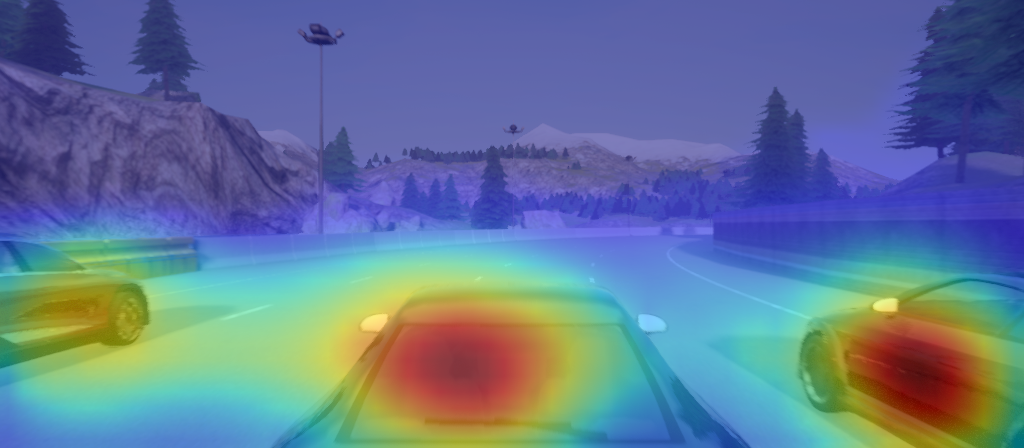Barrier: (719, 205, 1023, 265), (122, 241, 296, 264)
Car: (266, 279, 758, 448), (793, 269, 1024, 448), (1, 230, 154, 378)
Lane Marker: (221, 301, 276, 322)
Light Pole: (292, 19, 347, 236)
